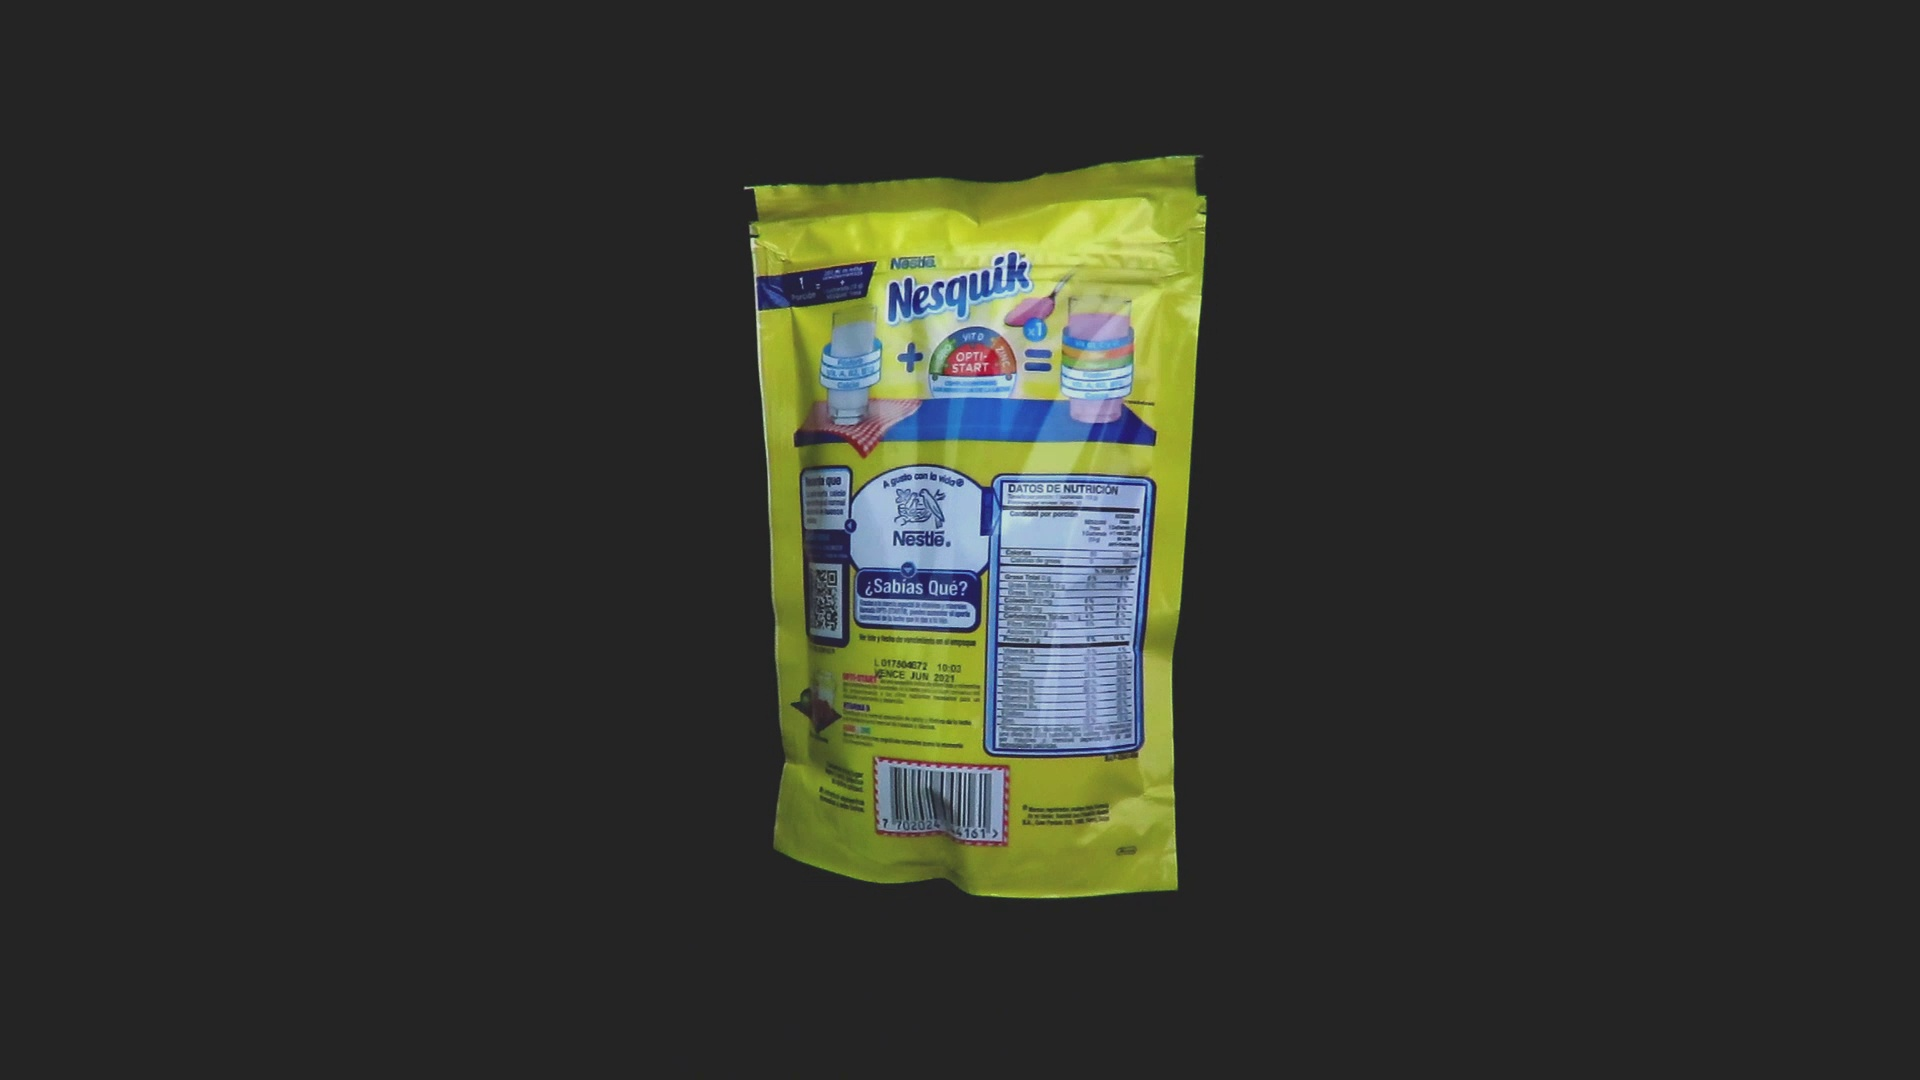COL0170305DYP20000: (738, 150, 1213, 905)
